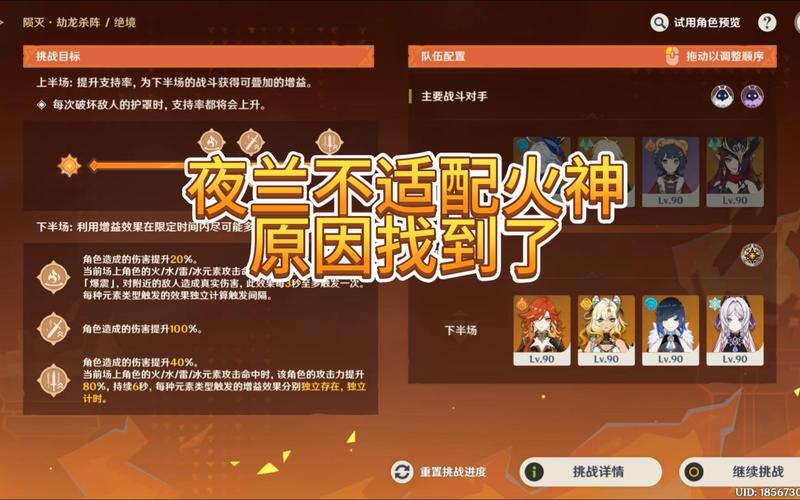夜兰: (642, 298, 699, 368)
